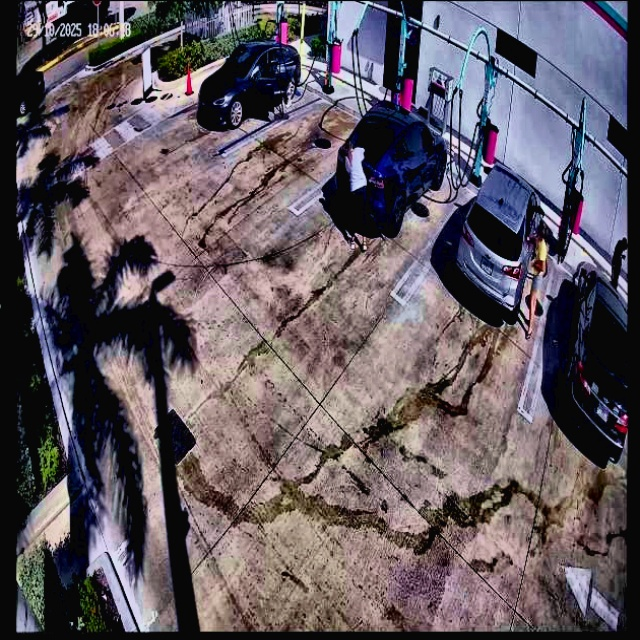Car: (338, 105, 447, 233), (460, 172, 539, 313)
